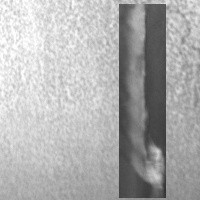pitted_surface: (22, 1, 199, 141)
scratches: (119, 4, 166, 198)
